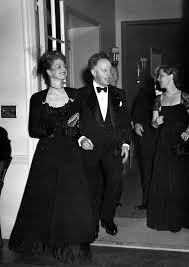person: (31, 53, 86, 136), (78, 49, 128, 135)
